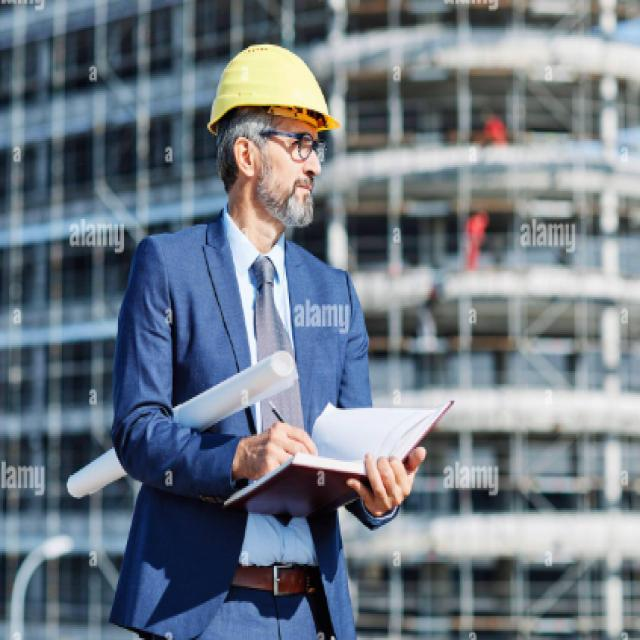helmet: (202, 41, 343, 236)
